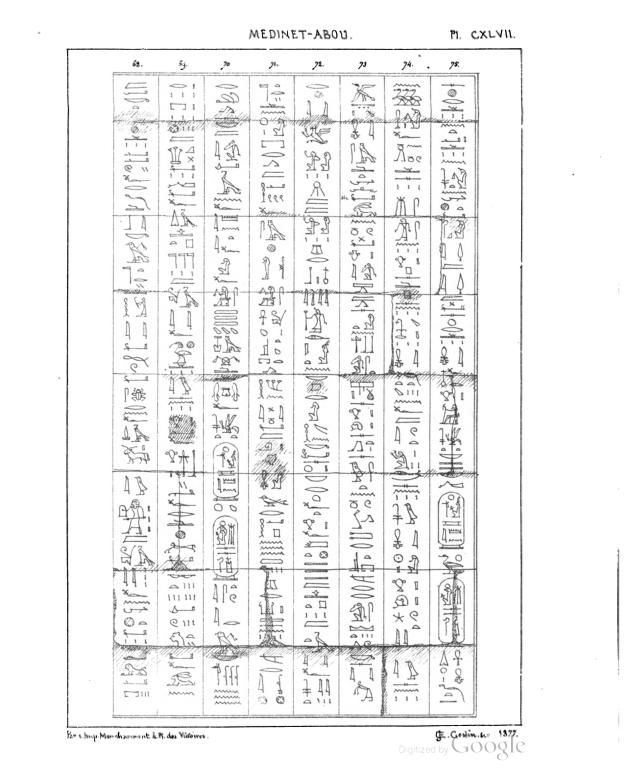circle: (434, 576, 473, 644), (209, 512, 240, 585), (436, 491, 470, 552), (209, 442, 243, 503)
